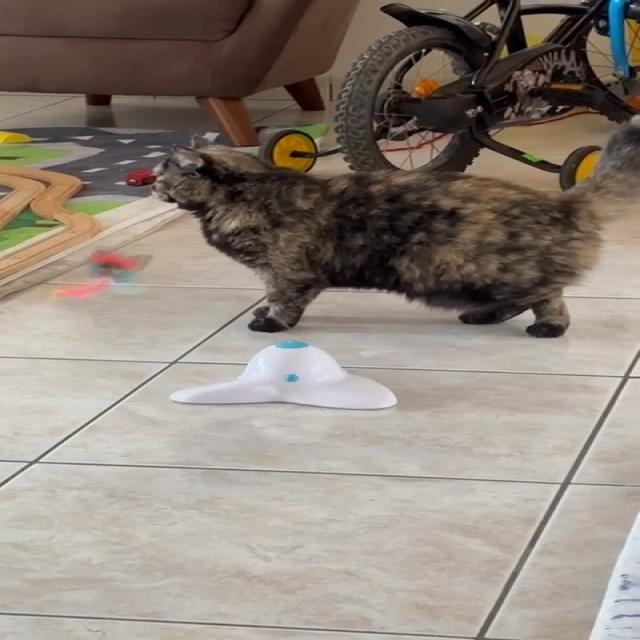authorized: (148, 113, 639, 338)
